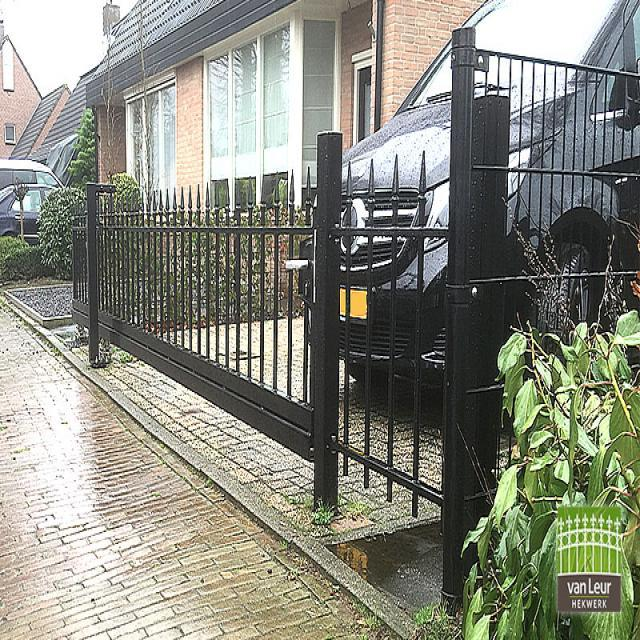fence line: (85, 187, 338, 451), (460, 52, 633, 373), (344, 160, 463, 527)
